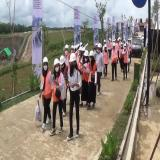Helmet: (69, 52, 76, 63), (88, 50, 95, 57), (42, 57, 48, 65), (54, 58, 60, 66), (60, 56, 65, 65), (65, 43, 69, 50), (84, 50, 88, 57), (79, 46, 82, 52), (70, 45, 74, 49), (112, 42, 116, 46), (82, 47, 85, 52), (98, 43, 101, 48), (124, 43, 127, 47), (104, 44, 107, 47), (104, 39, 106, 43), (121, 42, 123, 46), (123, 39, 125, 41), (129, 38, 131, 40), (128, 38, 129, 41), (109, 38, 110, 40)
Vest: (41, 70, 52, 100), (54, 71, 62, 102), (89, 60, 97, 83), (60, 66, 68, 88), (82, 61, 89, 83), (103, 50, 108, 66), (112, 49, 116, 65), (123, 49, 127, 64), (120, 48, 124, 59), (117, 43, 120, 52)
